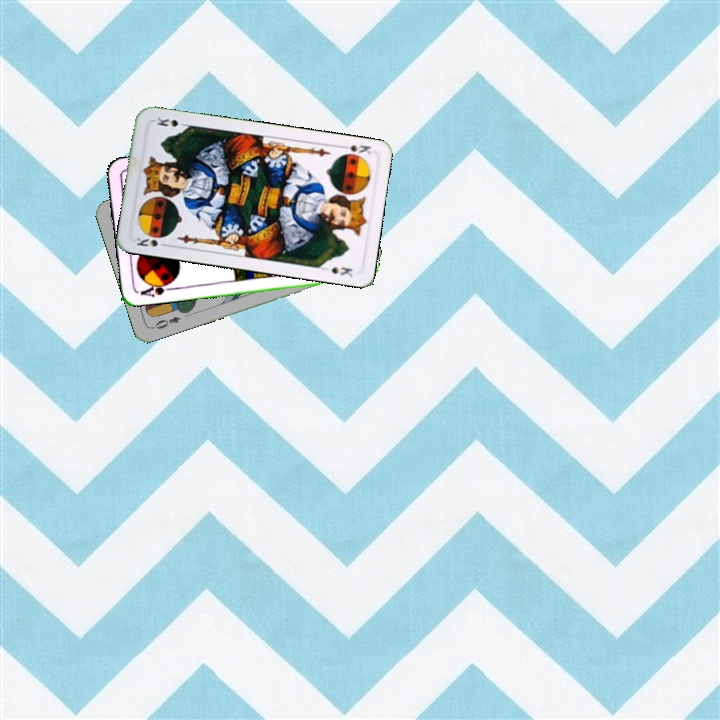EO: (148, 312, 183, 332)
SA: (136, 277, 176, 299)
SK: (336, 141, 373, 161), (133, 232, 172, 250)
